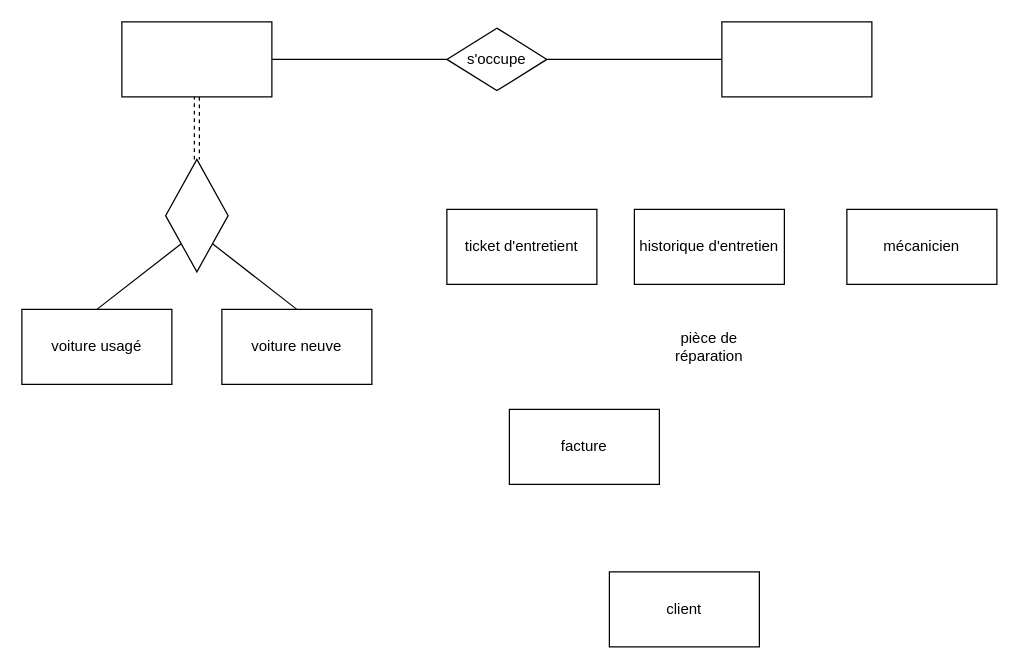
The diagram is 1019 pixels wide and 669 high, and some of its shapes have lost their labels. The shapes that lost their labels are listed below. From the top down, each one's centre as x and y in pixels, then its label:
the point at 196,59: concessionnaire
the point at 796,59: centre de service
the point at 196,215: vend
